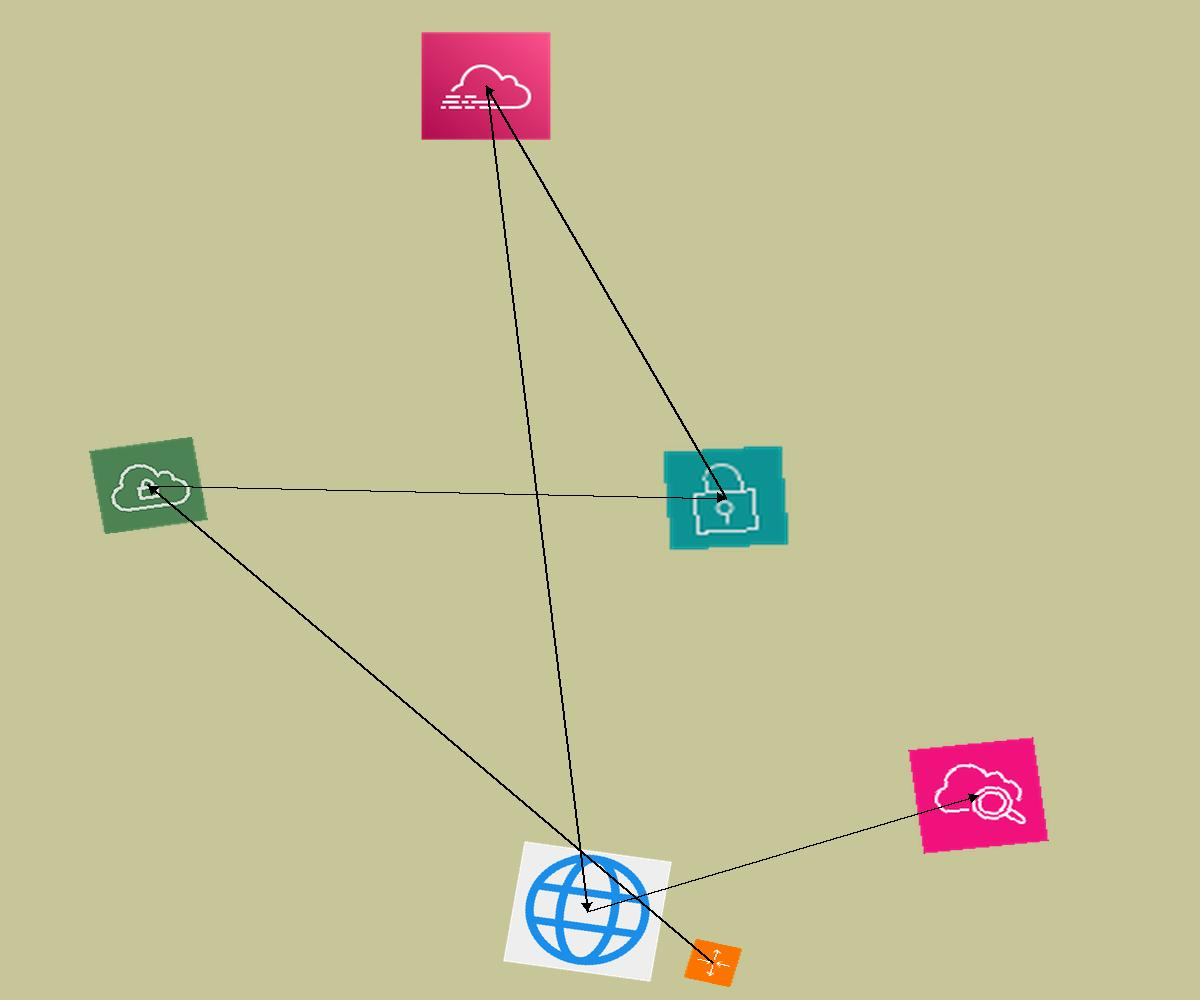AWS-CloudTrail: (420, 31, 552, 141)
AWS-CloudWatch: (908, 737, 1049, 854)
AWS-Private-subnet: (661, 444, 791, 552)
AWS-Private_vpc: (89, 436, 208, 535)
AWS-Scaling-group: (683, 938, 743, 988)
Azure_http: (503, 841, 672, 982)
